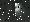person: (17, 5, 26, 19)
